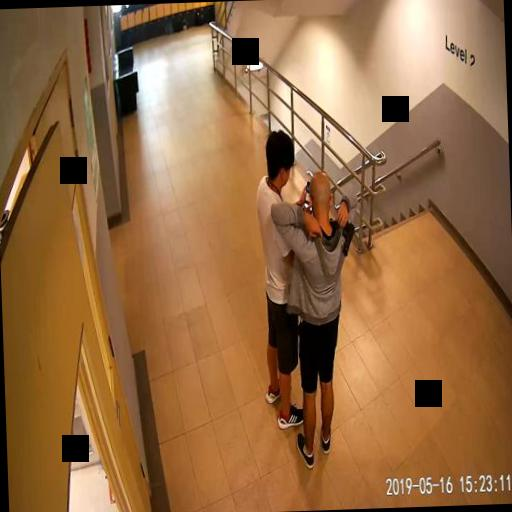Handgun: (337, 215, 353, 254)
